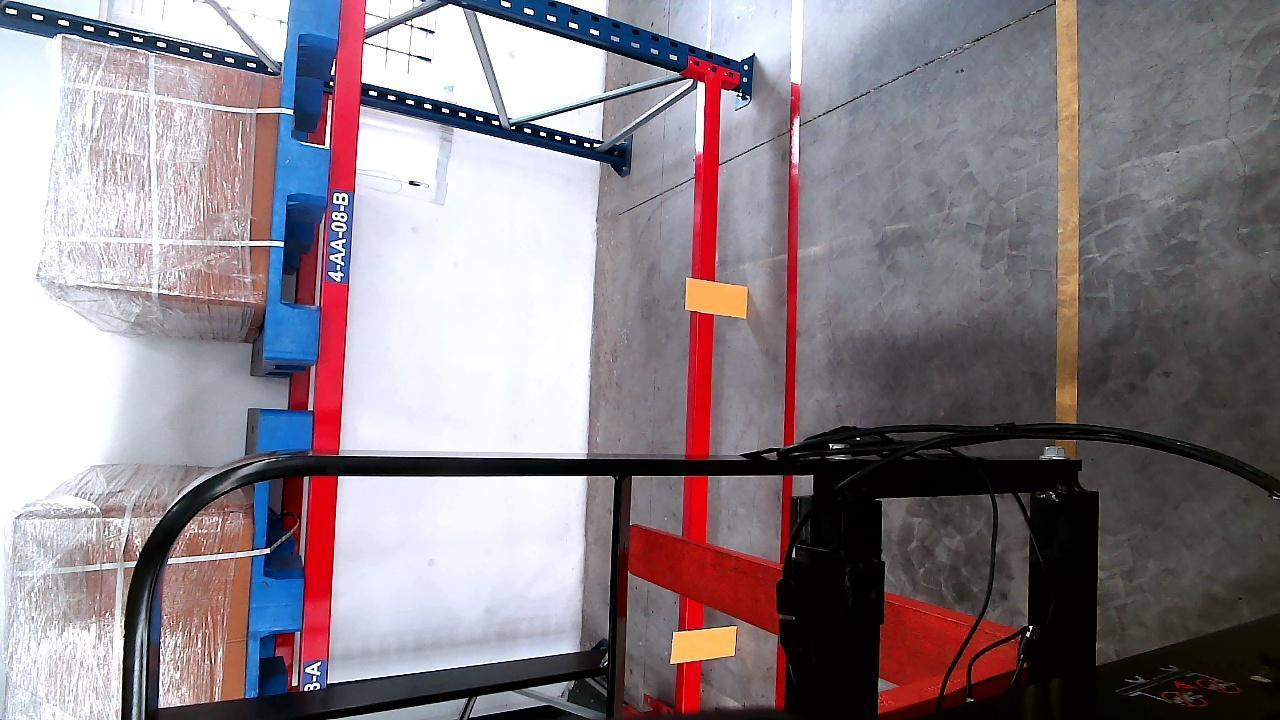h_rack: (304, 0, 365, 692), (676, 85, 726, 720)
orange_strip: (671, 623, 740, 664), (688, 279, 749, 315)
red_line: (774, 4, 805, 713)
small_pallet: (266, 0, 339, 361), (248, 414, 313, 689)
yellow_line: (1056, 0, 1082, 428)
